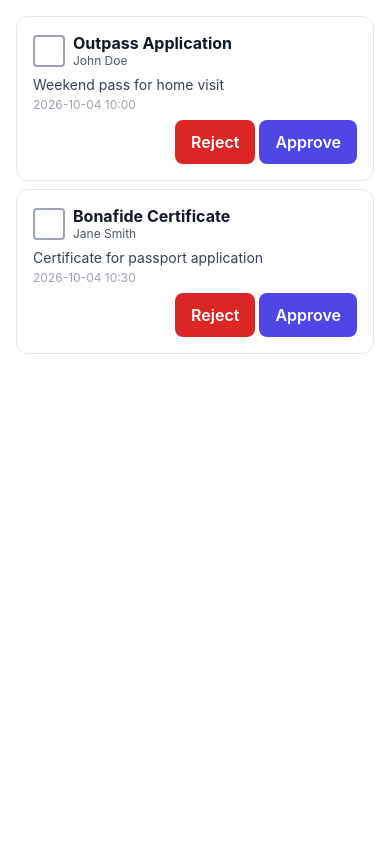
ApprovalInbox Component (Gap 3) › handles bulk approve with per-item partial results summary
Select both checkboxes
What coordinates should you click on to do the following:
click the element with test id "checkbox-select-req_1"
I would click on:
 (49, 50)
Its box is [33,34,65,66].
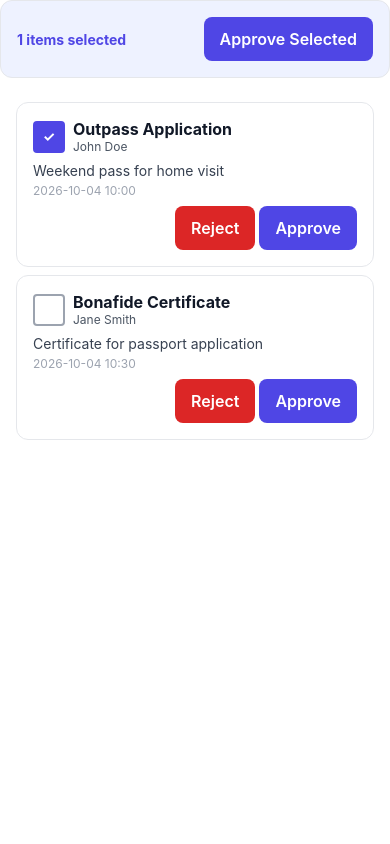
What coordinates should you click on to do the following:
click the element with test id "checkbox-select-req_2"
I would click on:
 (49, 310)
Its box is [33,294,65,326].
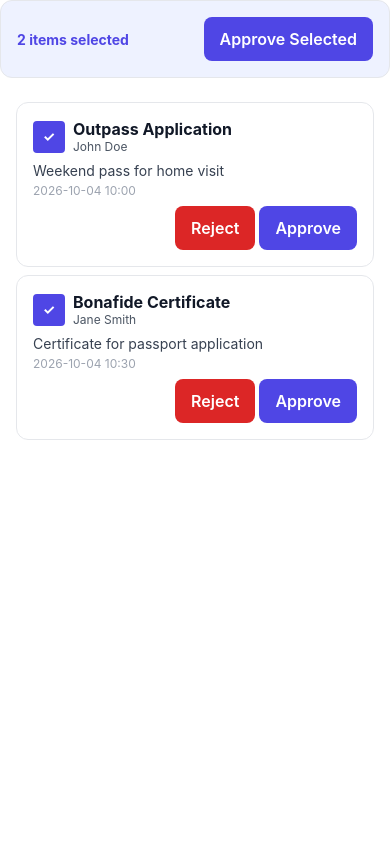
Click bulk approve
What coordinates should you click on to do the following:
click the button with test id "btn-bulk-approve"
I would click on:
 (288, 39)
Its box is [204,17,373,61].
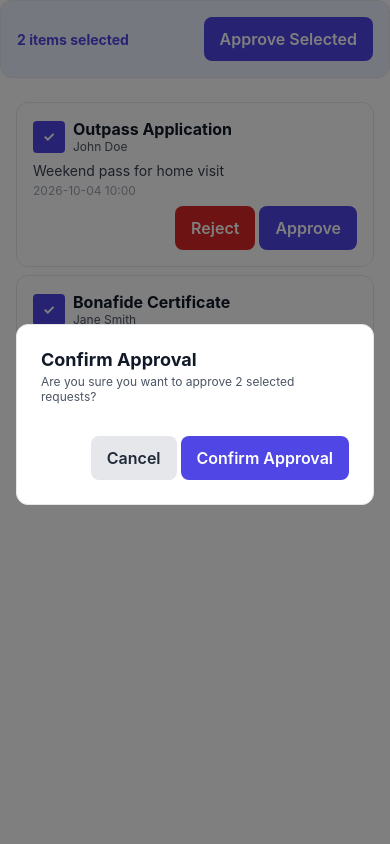
Confirm bulk approval in modal
What coordinates should you click on to do the following:
click the button with test id "btn-confirm-approve"
I would click on:
 (265, 458)
Its box is [180,436,349,480].
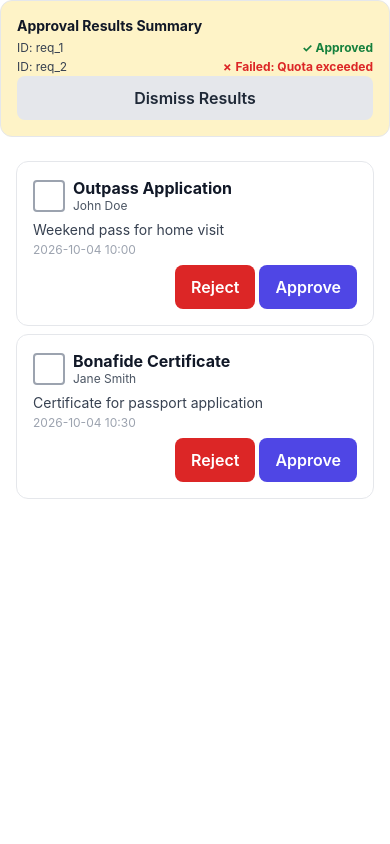
Expected: the element with test id "bulk-approve-results" is shown, [0,0,389,137]
Expected: the text "✓ Approved" is shown, [302,40,373,55]
Expected: the text "✗ Failed: Quota exceeded" is shown, [222,59,373,74]
